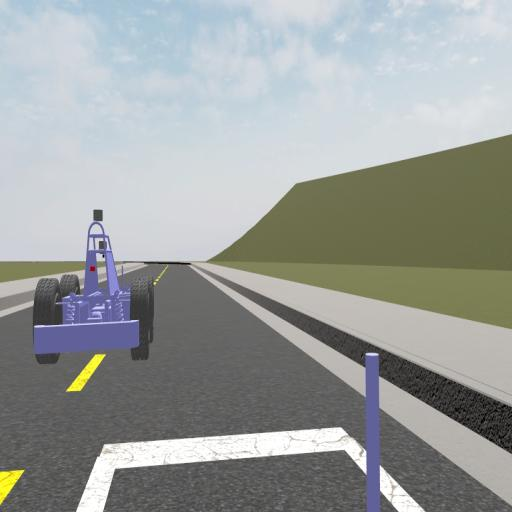ERP-42: (32, 208, 154, 366)
